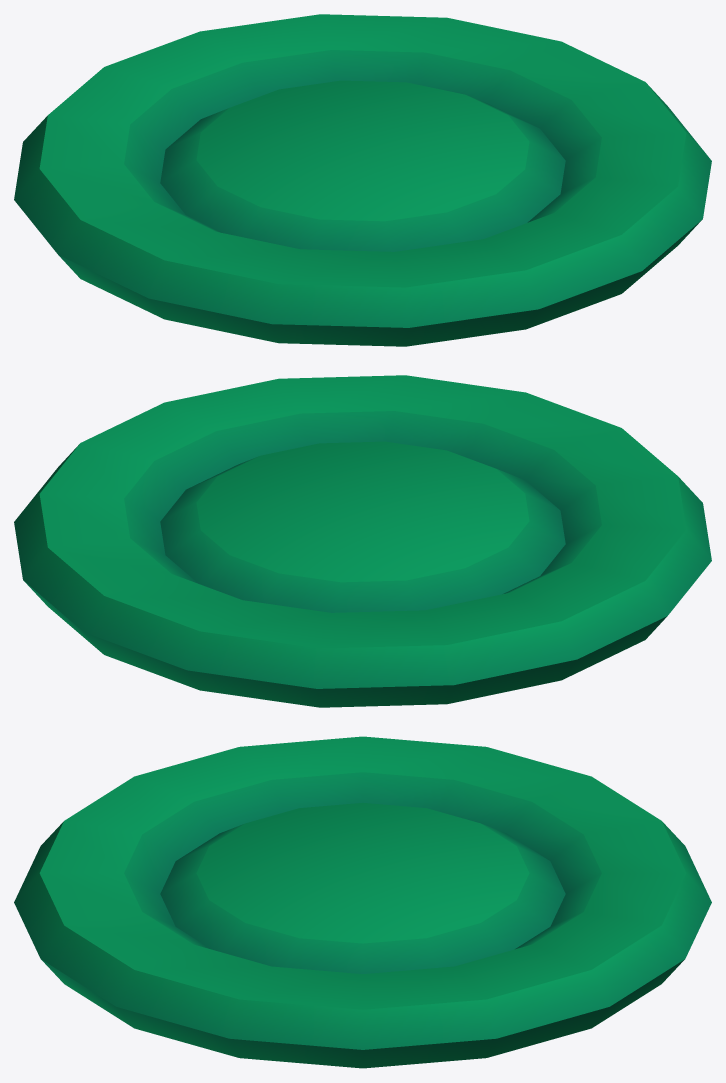
The model's file is token_green.obj.
3 renders of one model, top to bottom at view 1: azimuth 30°, elevation 25°; view 2: azimuth 150°, elevation 25°; view 3: azimuth 270°, elevation 25°, orthographic.
Parts seen in each view (by area): view 1: token_green; view 2: token_green; view 3: token_green.
Part boxes in pixels (x1=…): token_green: x1=14, y1=14, x2=711, y2=346; token_green: x1=14, y1=375, x2=711, y2=707; token_green: x1=14, y1=736, x2=711, y2=1068.
Bounding box in the file's own units: 1.08 × 0.1 × 1.08.
Materials: 1 (1 with a texture image).
